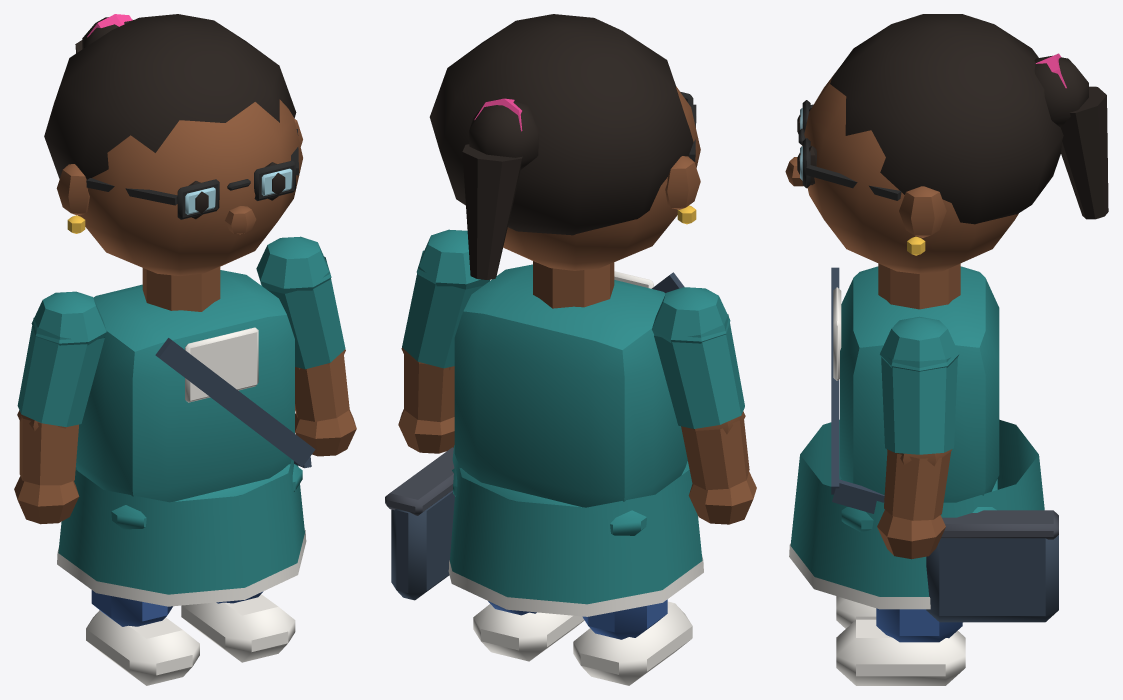
The model's file is trav_techie.glb.
The picture shows the model from 3 angles, left to right: view 1: azimuth 30°, elevation 25°; view 2: azimuth 150°, elevation 25°; view 3: azimuth 270°, elevation 25°; orthographic projection. The views are drawn at different scales.
Visible parts, largest first — view 1: body, head, arm_r, arm_l, leg_r, leg_l; view 2: body, head, arm_r, arm_l, leg_r, leg_l; view 3: head, body, arm_l, leg_l, leg_r.
Boxes of the visible parts, x1,y1,x2,y2 form: body: [57, 267, 315, 606]; head: [44, 14, 302, 275]; arm_r: [14, 291, 106, 524]; arm_l: [256, 236, 356, 456]; leg_r: [86, 590, 199, 685]; leg_l: [181, 591, 295, 662]; body: [385, 261, 703, 616]; head: [429, 14, 700, 279]; arm_r: [652, 287, 756, 524]; arm_l: [398, 229, 489, 453]; leg_r: [573, 599, 692, 685]; leg_l: [473, 601, 584, 661]; head: [785, 14, 1108, 273]; body: [789, 263, 1058, 622]; arm_l: [877, 316, 959, 559]; leg_l: [836, 608, 965, 685]; leg_r: [836, 596, 876, 628].
Size of the model in its own units: 0.5801 by 1.01 by 0.4722.
Materials: 1 (1 with a texture image).
